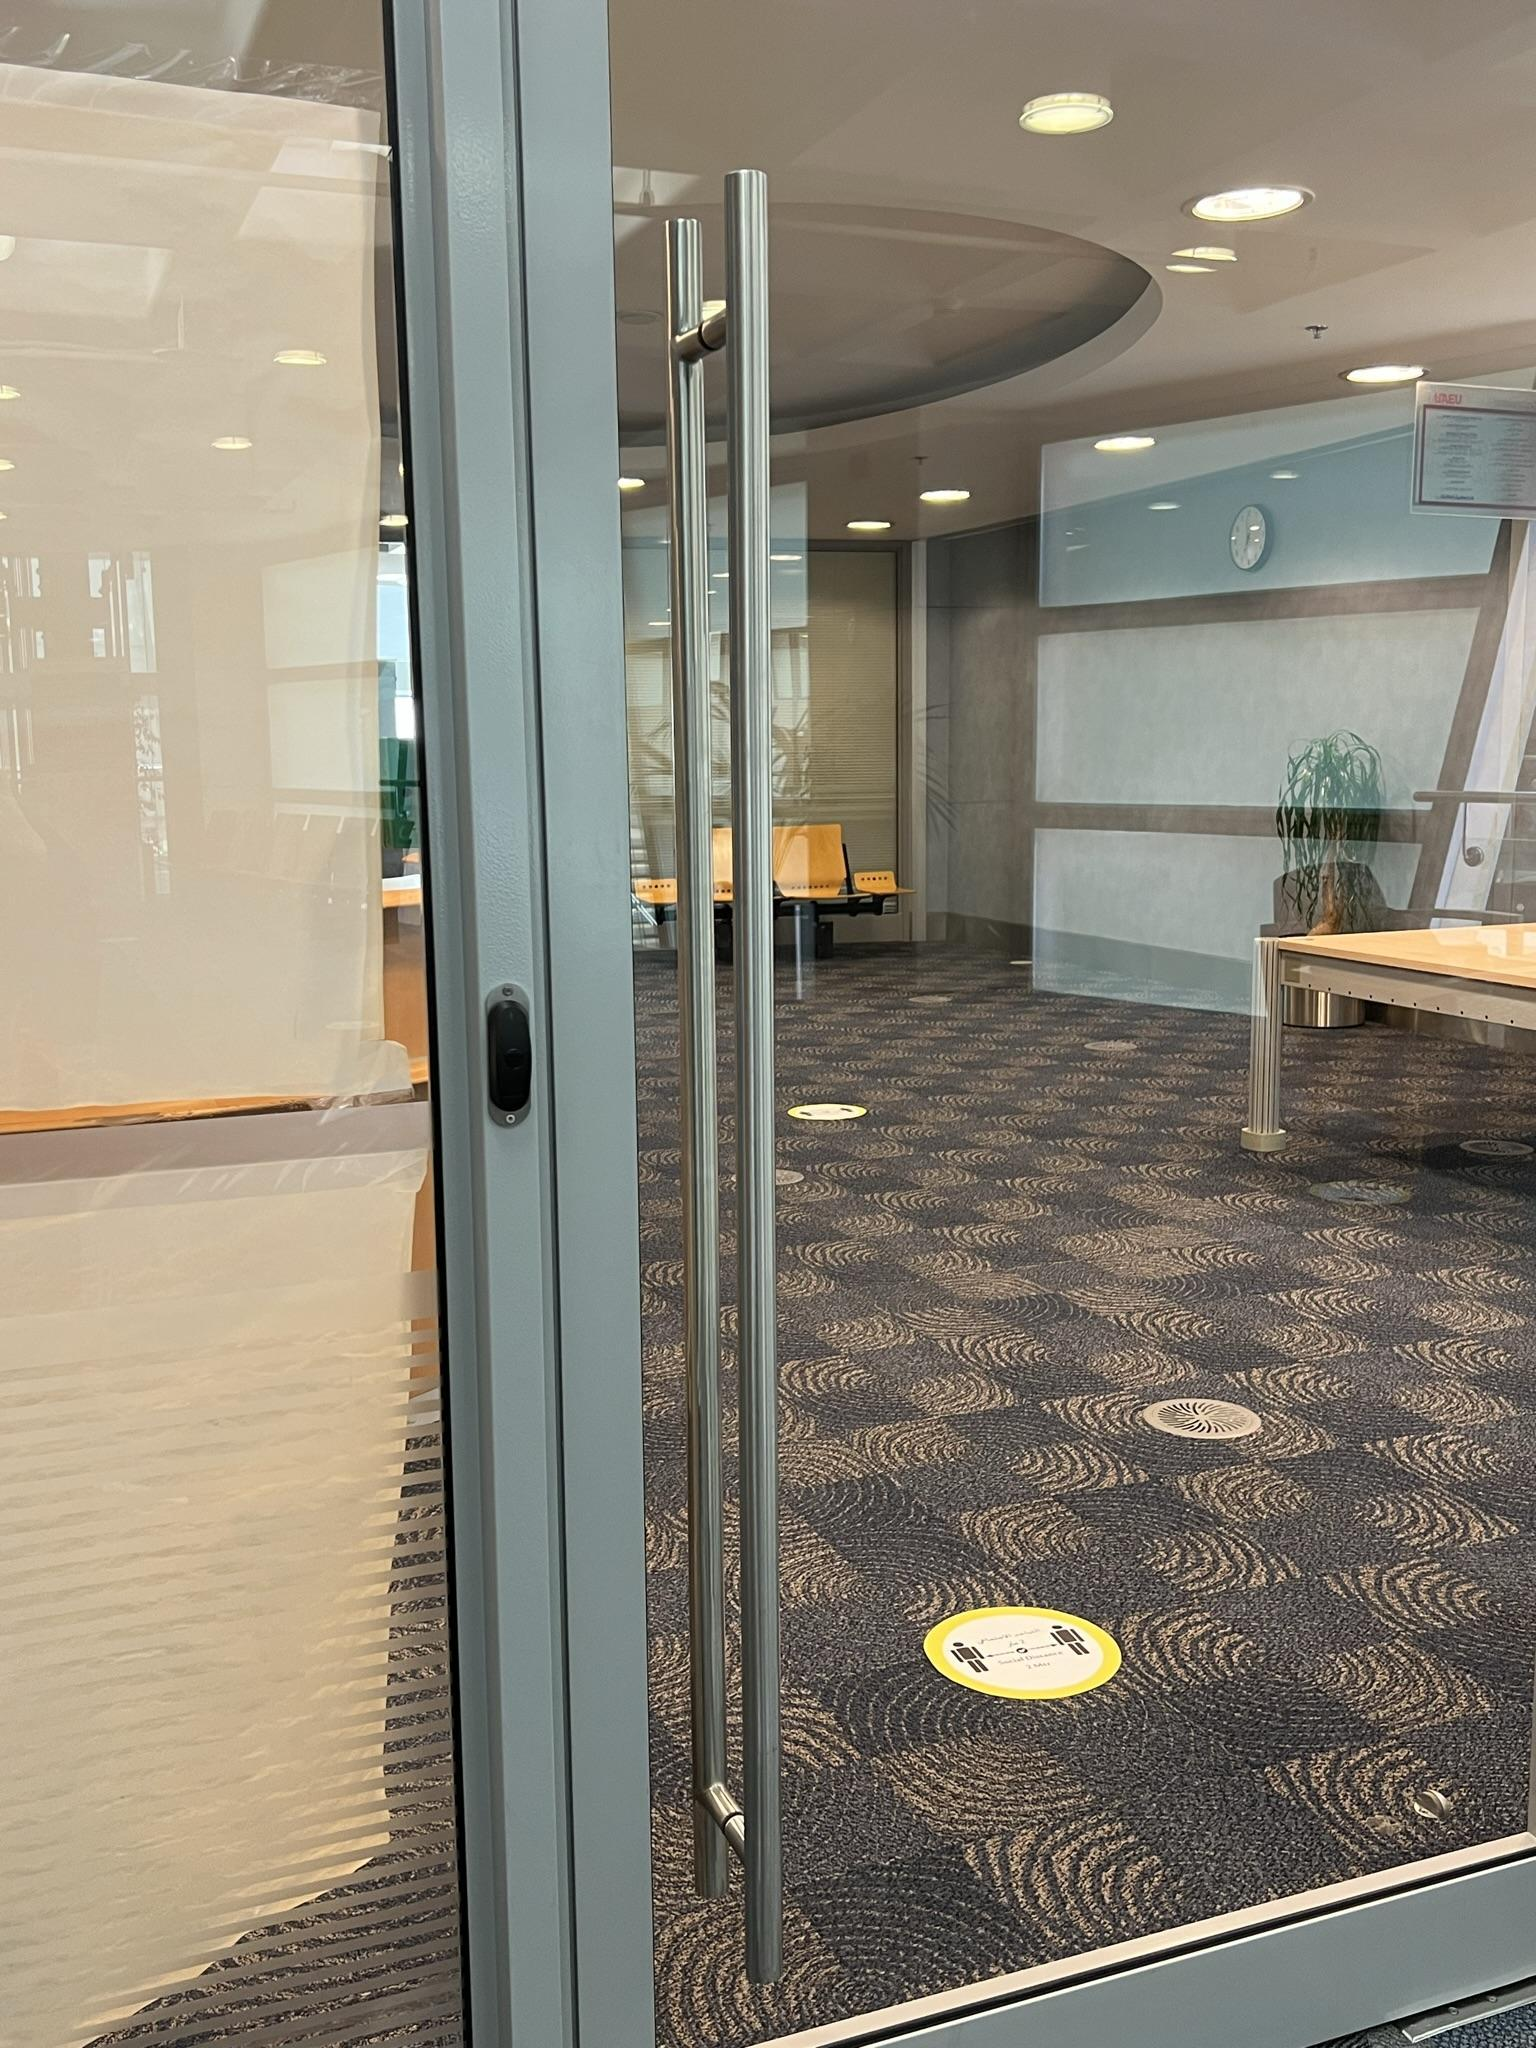door: (381, 0, 1536, 2048)
handle: (716, 161, 805, 1995)
